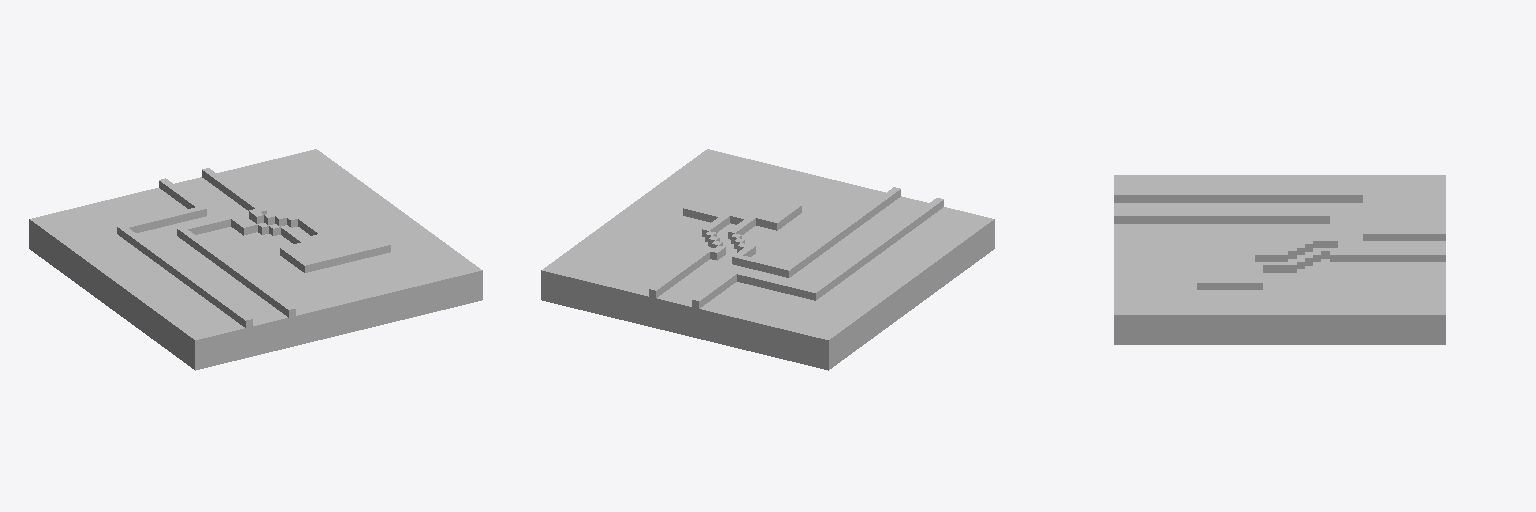
File: Vulcano1 - 1.obj
The picture shows the model from 3 angles: view 1: azimuth 30°, elevation 25°; view 2: azimuth 150°, elevation 25°; view 3: azimuth 270°, elevation 25°; orthographic projection.
Parts seen in each view (by area): view 1: object 1; view 2: object 1; view 3: object 1.
Part boxes in pixels (x1,y1,x2,y2): object 1: (29,149,482,370); object 1: (541,149,994,370); object 1: (1114,175,1445,344).
Size of the model in its own units: 4 by 0.5 by 4.